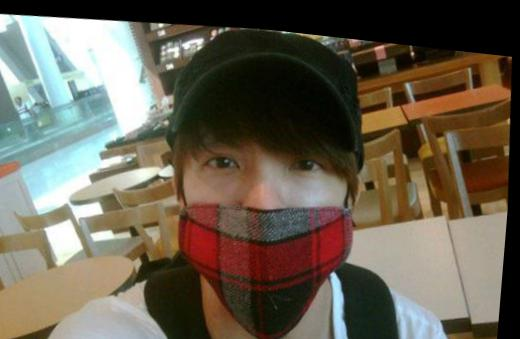WRONG: (171, 103, 371, 316)
